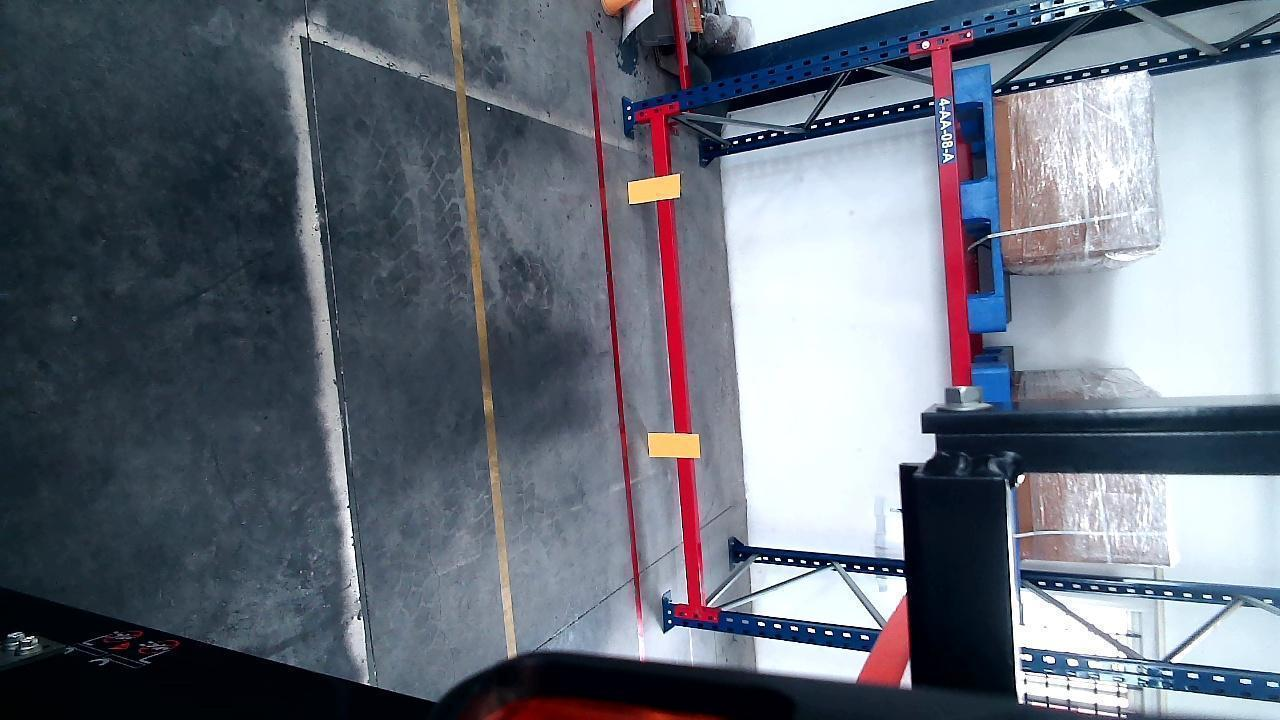red_line: (589, 39, 642, 632)
